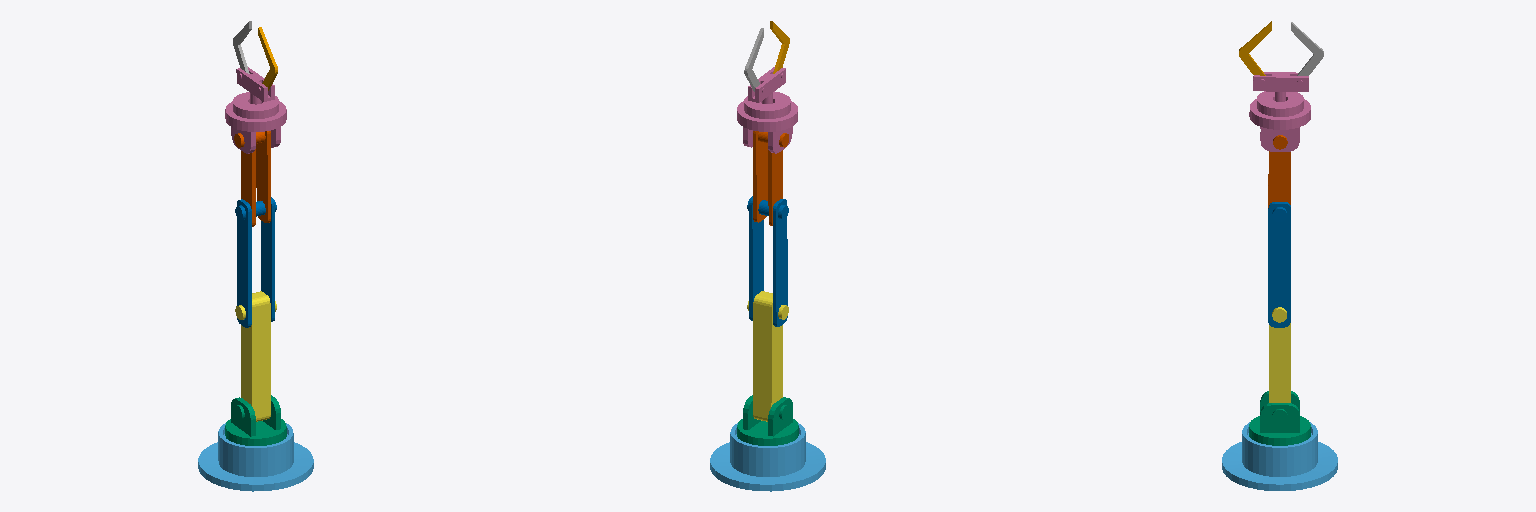
The robot description file, URDF, robot "pick_and_drop_arm":
<?xml version="1.0"?>
<robot name="pick_and_drop_arm">

  <!-- WORLD -->
  <link name="world"/>

  <joint name="world_to_base" type="fixed">
    <parent link="world"/>
    <child link="base_link"/>
    <origin xyz="0 0 0" rpy="0 0 0"/>
  </joint>

  <!-- ================= LINKS ================= -->

  <!-- TEMPLATE NOTE:
       All links now include visual + collision + inertial
       (important for Gazebo + control)
  -->

  <!-- BASE -->
  <link name="base_link">
    <visual>
      <geometry>
        <mesh filename="package://pick_and_drop/meshes/base.dae"/>
      </geometry>
    </visual>
    <collision>
      <geometry>
        <mesh filename="package://pick_and_drop/meshes/base.dae"/>
      </geometry>
    </collision>
    <inertial>
      <origin xyz="0 0 0"/>
      <mass value="2.0"/>
      <inertia ixx="0.02" ixy="0" ixz="0"
               iyy="0.02" iyz="0"
               izz="0.02"/>
    </inertial>
  </link>

  <!-- LINK1 -->
  <link name="link1">
    <visual>
      <geometry>
        <mesh filename="package://pick_and_drop/meshes/1.dae"/>
      </geometry>
    </visual>
    <collision>
      <geometry>
        <mesh filename="package://pick_and_drop/meshes/1.dae"/>
      </geometry>
    </collision>
    <inertial>
      <origin xyz="0 0 0"/>
      <mass value="1.0"/>
      <inertia ixx="0.01" ixy="0" ixz="0"
               iyy="0.01" iyz="0"
               izz="0.01"/>
    </inertial>
  </link>

  <!-- ARM1 -->
  <link name="arm1">
    <visual>
      <geometry>
        <mesh filename="package://pick_and_drop/meshes/arm1.dae"/>
      </geometry>
    </visual>
    <collision>
      <geometry>
        <mesh filename="package://pick_and_drop/meshes/arm1.dae"/>
      </geometry>
    </collision>
    <inertial>
      <origin xyz="0 0 0"/>
      <mass value="1.0"/>
      <inertia ixx="0.01" ixy="0" ixz="0"
               iyy="0.01" iyz="0"
               izz="0.01"/>
    </inertial>
  </link>

  <!-- ARM2 -->
  <link name="arm2">
    <visual>
      <geometry>
        <mesh filename="package://pick_and_drop/meshes/arm2.dae"/>
      </geometry>
    </visual>
    <collision>
      <geometry>
        <mesh filename="package://pick_and_drop/meshes/arm2.dae"/>
      </geometry>
    </collision>
    <inertial>
      <origin xyz="0 0 0"/>
      <mass value="1.0"/>
      <inertia ixx="0.01" ixy="0" ixz="0"
               iyy="0.01" iyz="0"
               izz="0.01"/>
    </inertial>
  </link>

  <!-- ARM3 -->
  <link name="arm3">
    <visual>
      <geometry>
        <mesh filename="package://pick_and_drop/meshes/arm3.dae"/>
      </geometry>
    </visual>
    <collision>
      <geometry>
        <mesh filename="package://pick_and_drop/meshes/arm3.dae"/>
      </geometry>
    </collision>
    <inertial>
      <origin xyz="0 0 0"/>
      <mass value="1.0"/>
      <inertia ixx="0.01" ixy="0" ixz="0"
               iyy="0.01" iyz="0"
               izz="0.01"/>
    </inertial>
  </link>

  <!-- WRIST -->
  <link name="wrist">
    <visual>
      <geometry>
        <mesh filename="package://pick_and_drop/meshes/wrist.dae"/>
      </geometry>
    </visual>
    <collision>
      <geometry>
        <mesh filename="package://pick_and_drop/meshes/wrist.dae"/>
      </geometry>
    </collision>
    <inertial>
      <origin xyz="0 0 0"/>
      <mass value="0.5"/>
      <inertia ixx="0.005" ixy="0" ixz="0"
               iyy="0.005" iyz="0"
               izz="0.005"/>
    </inertial>
  </link>

  <!-- FINGER1 -->
  <link name="finger1">
    <visual>
      <geometry>
        <mesh filename="package://pick_and_drop/meshes/finger1.dae"/>
      </geometry>
    </visual>
    <collision>
      <geometry>
        <mesh filename="package://pick_and_drop/meshes/finger1.dae"/>
      </geometry>
    </collision>
    <inertial>
      <origin xyz="0 0 0"/>
      <mass value="0.2"/>
      <inertia ixx="0.002" ixy="0" ixz="0"
               iyy="0.002" iyz="0"
               izz="0.002"/>
    </inertial>
  </link>

  <!-- FINGER2 -->
  <link name="finger2">
    <visual>
      <geometry>
        <mesh filename="package://pick_and_drop/meshes/finger2.dae"/>
      </geometry>
    </visual>
    <collision>
      <geometry>
        <mesh filename="package://pick_and_drop/meshes/finger2.dae"/>
      </geometry>
    </collision>
    <inertial>
      <origin xyz="0 0 0"/>
      <mass value="0.2"/>
      <inertia ixx="0.002" ixy="0" ixz="0"
               iyy="0.002" iyz="0"
               izz="0.002"/>
    </inertial>
  </link>

  <!-- ================= JOINTS ================= -->

  <joint name="base_joint" type="revolute">
    <parent link="base_link"/>
    <child link="link1"/>
    <origin xyz="0 0 0"/>
    <axis xyz="0 0 1"/>
    <limit lower="-3.14" upper="3.14" effort="10" velocity="1.0"/>
  </joint>

  <joint name="joint1" type="revolute">
    <parent link="link1"/>
    <child link="arm1"/>
    <origin xyz="0 0 1.67744"/>
    <axis xyz="1 0 0"/>
    <limit lower="-1.57" upper="1.57" effort="10" velocity="1.0"/>
  </joint>

  <joint name="joint2" type="revolute">
    <parent link="arm1"/>
    <child link="arm2"/>
    <origin xyz="0 -0.007232 2.92735"/>
    <axis xyz="1 0 0"/>
    <limit lower="-1.57" upper="1.57" effort="10" velocity="1.0"/>
  </joint>

  <joint name="joint3" type="revolute">
    <parent link="arm2"/>
    <child link="arm3"/>
    <origin xyz="0 0.002234 2.9244"/>
    <axis xyz="1 0 0"/>
    <limit lower="-1.57" upper="1.57" effort="10" velocity="1.0"/>
  </joint>

  <joint name="joint4" type="revolute">
    <parent link="arm3"/>
    <child link="wrist"/>
    <origin xyz="0 0.012929 2.12653"/>
    <axis xyz="1 0 0"/>
    <limit lower="-1.57" upper="1.57" effort="10" velocity="1.0"/>
  </joint>

  <joint name="finger1_joint" type="revolute">
    <parent link="wrist"/>
    <child link="finger1"/>
    <origin xyz="0.005756 0.522025 1.59808"/>
    <axis xyz="-1 0 0"/>
    <limit lower="-0.8" upper="0" effort="5" velocity="1.0"/>
  </joint>

  <joint name="finger2_joint" type="revolute">
    <parent link="wrist"/>
    <child link="finger2"/>
    <origin xyz="0.005756 -0.477477 1.61468"/>
    <axis xyz="1 0 0"/>
    <limit lower="0" upper="0.8" effort="5" velocity="1.0"/>
  </joint>

  <!-- ================= ROS2 CONTROL ================= -->

  <ros2_control name="arm_system" type="system">
    <hardware>
      <plugin>fake_components/GenericSystem</plugin>
    </hardware>

    <joint name="base_joint">
      <command_interface name="position"/>
      <state_interface name="position"/>
    </joint>

    <joint name="joint1">
      <command_interface name="position"/>
      <state_interface name="position"/>
    </joint>

    <joint name="joint2">
      <command_interface name="position"/>
      <state_interface name="position"/>
    </joint>

    <joint name="joint3">
      <command_interface name="position"/>
      <state_interface name="position"/>
    </joint>

    <joint name="joint4">
      <command_interface name="position"/>
      <state_interface name="position"/>
    </joint>

    <joint name="finger1_joint">
      <command_interface name="position"/>
      <state_interface name="position"/>
    </joint>

    <joint name="finger2_joint">
      <command_interface name="position"/>
      <state_interface name="position"/>
    </joint>
  </ros2_control>

  <!-- ================= GAZEBO ================= -->

  <gazebo>
    <plugin filename="libgz_ros2_control-system.so" name="gz_ros2_control"/>
  </gazebo>

</robot>

--- Facts derived from the render (not from the file) ---
Views: 3 orthographic renders of the robot side by side, from view 1: azimuth 30°, elevation 25°; view 2: azimuth 150°, elevation 25°; view 3: azimuth 270°, elevation 25°.
Robot: pick_and_drop_arm — 9 links, 8 joints (7 revolute, 1 fixed); root link world; default pose: every joint at zero.
Links seen in each view (by area): view 1: base_link, arm1, wrist, arm2, arm3, link1; view 2: base_link, arm1, arm2, wrist, arm3, link1; view 3: base_link, wrist, arm2, link1, arm1, arm3, finger1, finger2.
Link boxes in pixels (<box>): base_link: <box>198,423,313,491</box>; arm1: <box>235,291,276,421</box>; wrist: <box>225,67,286,153</box>; arm2: <box>235,197,276,327</box>; arm3: <box>234,131,270,226</box>; link1: <box>225,395,286,445</box>; base_link: <box>710,423,825,491</box>; arm1: <box>747,291,788,421</box>; arm2: <box>747,196,788,326</box>; wrist: <box>737,67,797,153</box>; arm3: <box>753,131,788,225</box>; link1: <box>737,395,798,445</box>; base_link: <box>1222,422,1337,490</box>; wrist: <box>1249,72,1310,151</box>; arm2: <box>1268,202,1290,327</box>; link1: <box>1249,391,1310,445</box>; arm1: <box>1269,307,1290,402</box>; arm3: <box>1268,135,1290,207</box>; finger1: <box>1291,22,1323,75</box>; finger2: <box>1239,21,1271,75</box>.
Bounding box of the posed robot: 3.08 × 3.08 × 12.98 m (x, y, z).
8 mesh visuals loaded from 8 distinct referenced files (8 Collada DAE).
